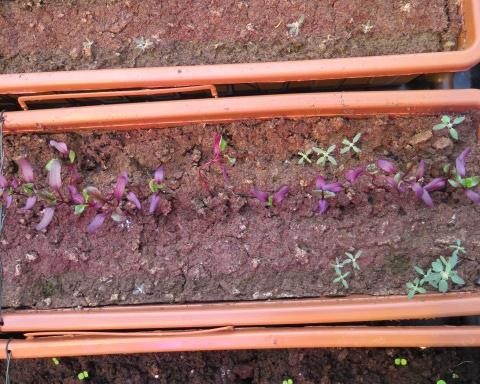weed: (428, 112, 467, 141), (335, 129, 362, 154), (390, 355, 408, 366), (74, 369, 89, 379)
